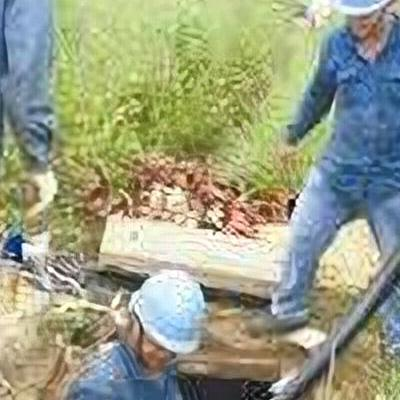hardHat: (125, 260, 212, 371)
